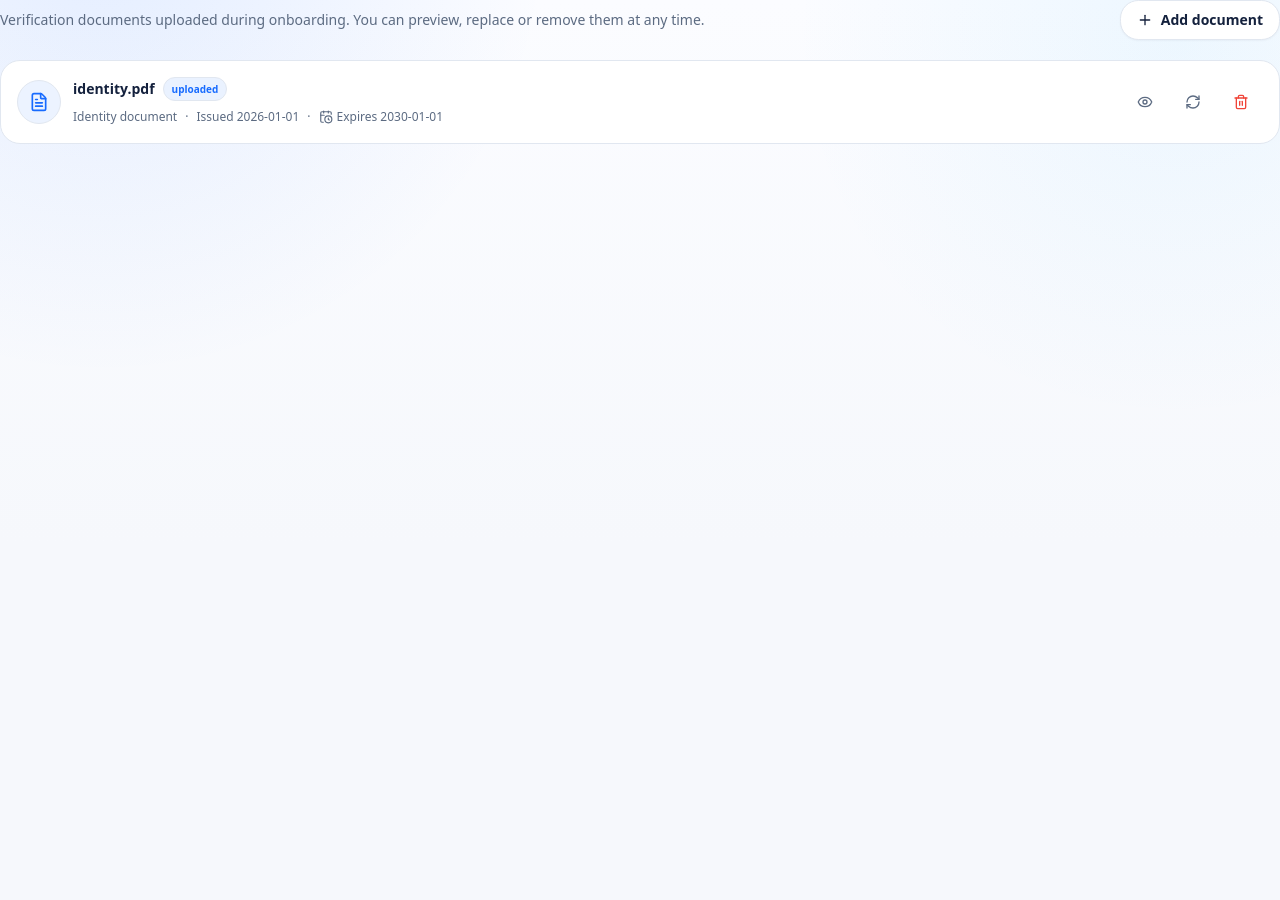
Scenario: ProfileDocumentsManager › removes a document after a successful delete
The width and height of the screenshot is (1280, 900).
Click the button named "Delete identity.pdf" at x=1241, y=102, box [1219,80,1263,124]
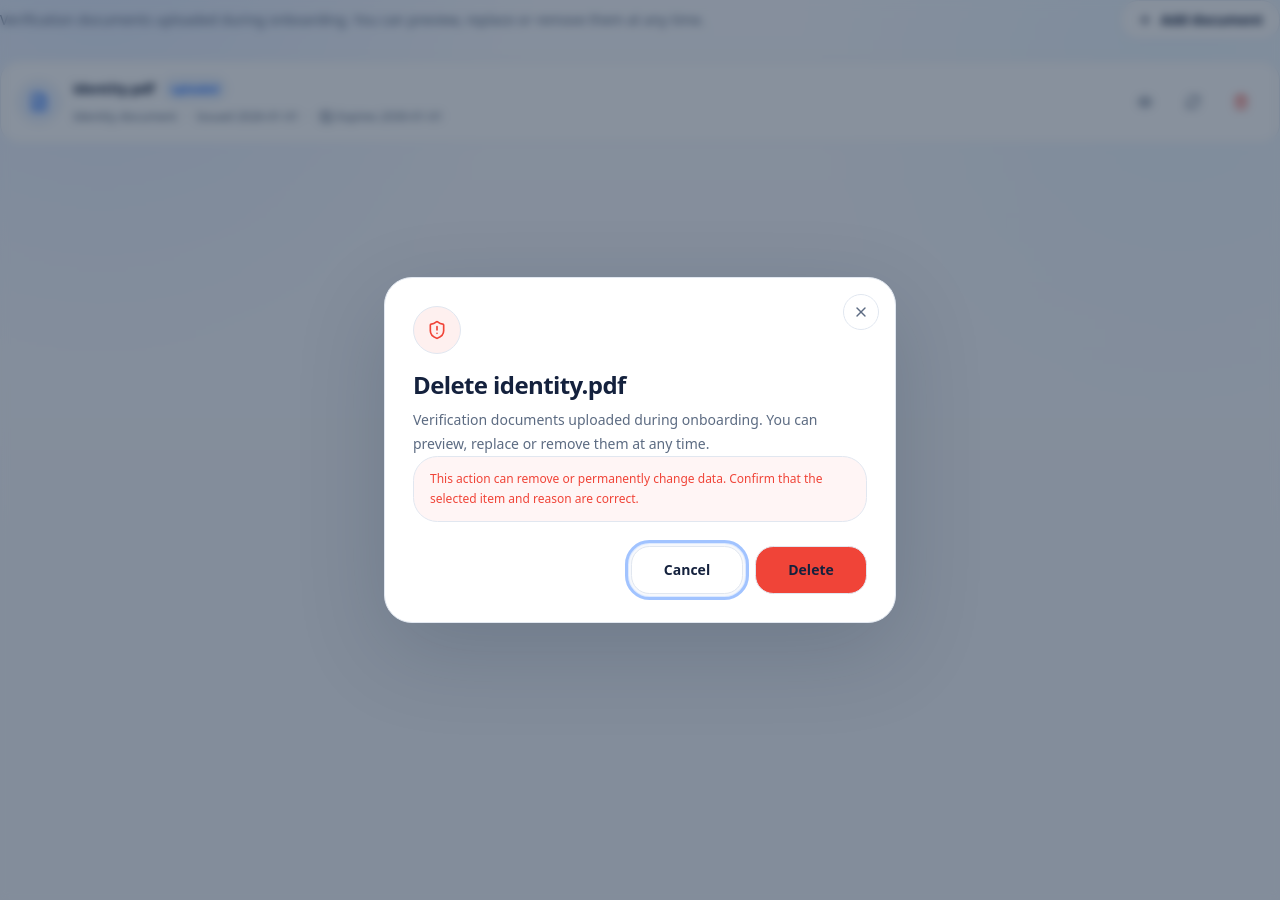
Click the button "Delete" at x=811, y=570, box [755,546,867,594]
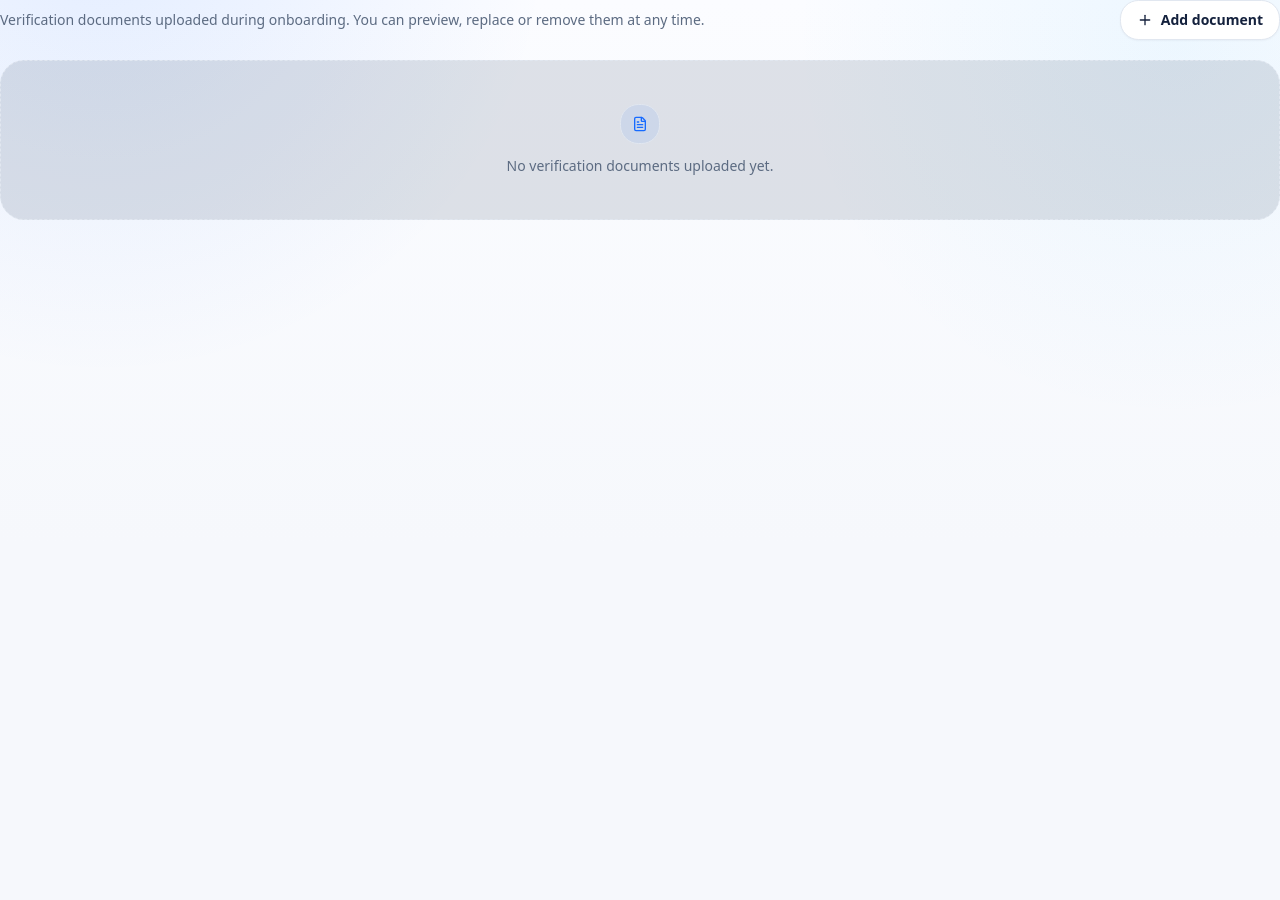
Check: the text "identity.pdf" is gone
Check: the text "No verification documents uploaded yet." is shown, box [507,156,774,176]
